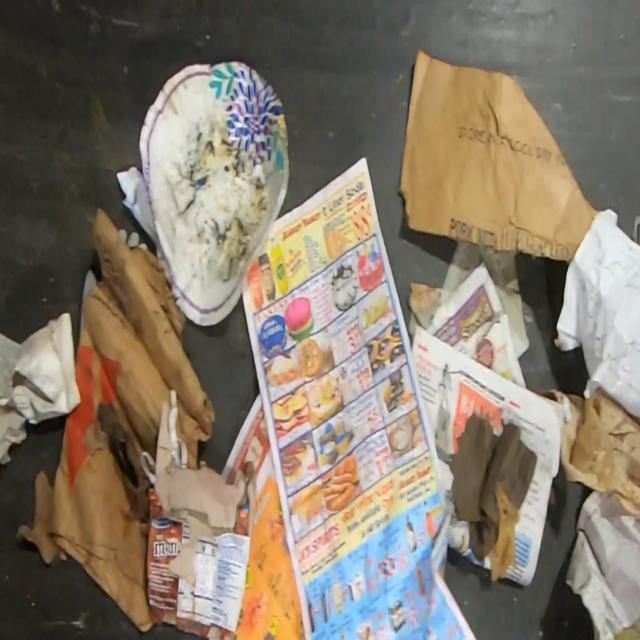cardboard: (15, 206, 216, 633), (398, 48, 600, 265), (145, 402, 256, 638)
